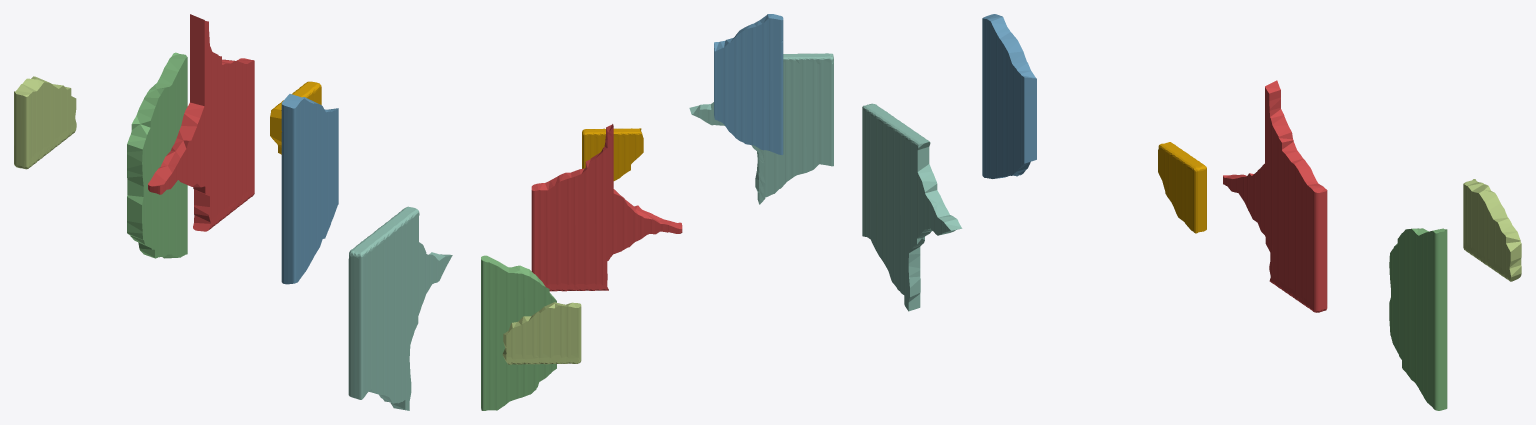
File: mode_5_6pcs_transformed.glb
3 renders of one model, left to right at view 1: azimuth 30°, elevation 25°; view 2: azimuth 150°, elevation 25°; view 3: azimuth 270°, elevation 25°, orthographic. The views are drawn at different scales.
Visible parts, largest first — view 1: piece_4.obj, piece_1.obj, piece_2.obj, piece_3.obj, piece_5.obj, piece_0.obj; view 2: piece_1.obj, piece_2.obj, piece_4.obj, piece_3.obj, piece_5.obj, piece_0.obj; view 3: piece_1.obj, piece_4.obj, piece_3.obj, piece_2.obj, piece_5.obj, piece_0.obj.
Part boxes in pixels (x1,y1,x2,y2): piece_4.obj: [348, 206, 452, 410]; piece_1.obj: [148, 14, 254, 231]; piece_2.obj: [281, 94, 338, 284]; piece_3.obj: [127, 52, 187, 258]; piece_5.obj: [14, 76, 76, 169]; piece_0.obj: [270, 81, 321, 154]; piece_1.obj: [531, 124, 682, 291]; piece_2.obj: [714, 14, 783, 154]; piece_4.obj: [689, 53, 833, 204]; piece_3.obj: [481, 255, 556, 410]; piece_5.obj: [502, 302, 581, 364]; piece_0.obj: [582, 128, 643, 180]; piece_1.obj: [1223, 80, 1327, 312]; piece_4.obj: [862, 103, 962, 311]; piece_3.obj: [1389, 228, 1447, 410]; piece_2.obj: [982, 14, 1036, 178]; piece_5.obj: [1463, 179, 1521, 281]; piece_0.obj: [1158, 142, 1206, 233].
Bounding box in the file's own units: 0.3933 × 0.9186 × 1.65.
